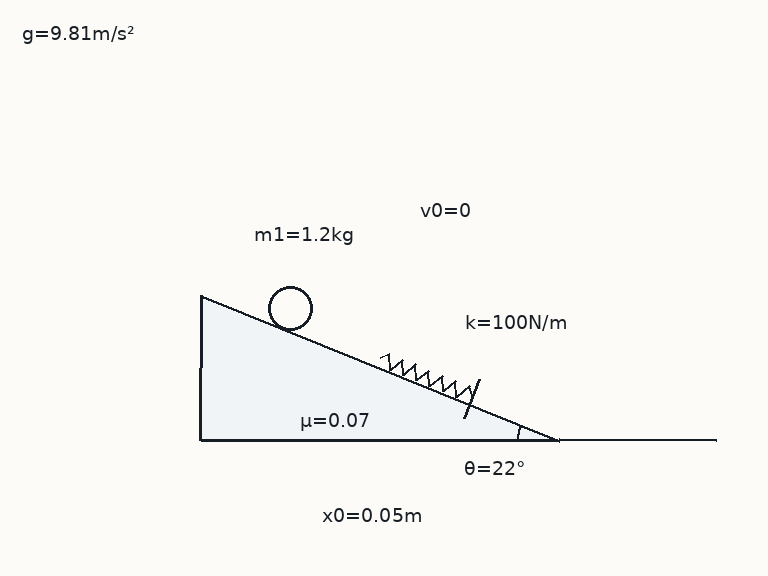ball: (266, 284, 314, 332)
ramp: (199, 294, 560, 442)
spring: (377, 352, 474, 399)
